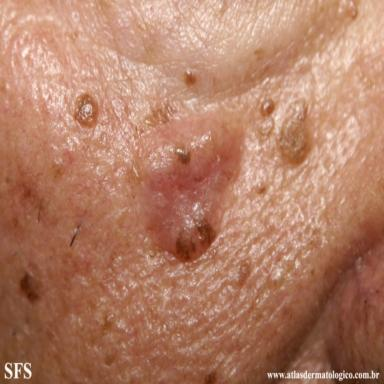basal-cell-carcinoma: (137, 112, 243, 261)
